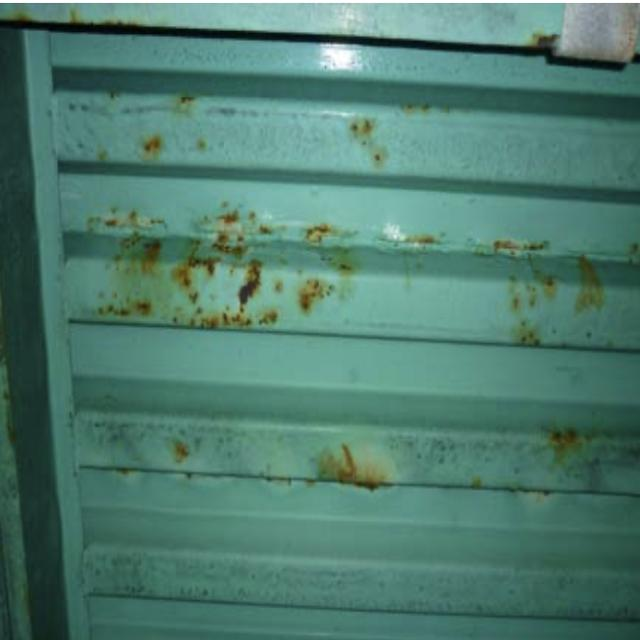corrosion: (97, 116, 640, 356), (283, 427, 626, 520)
